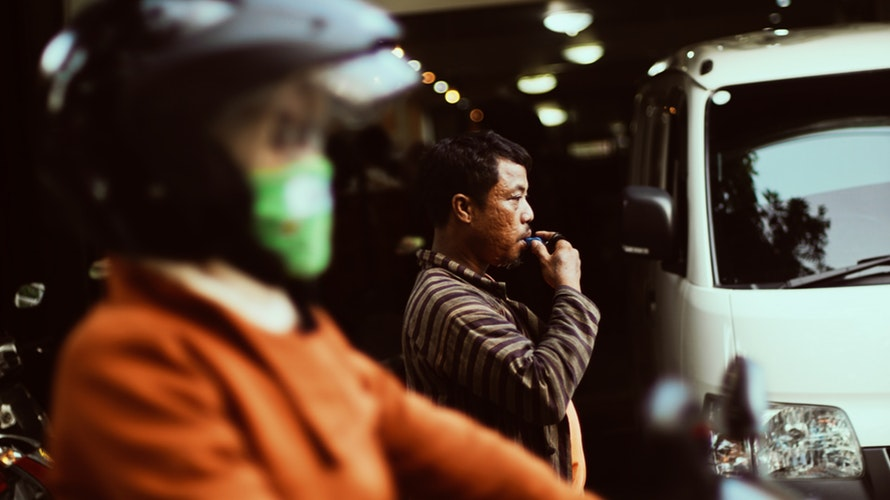helmet: (56, 9, 386, 282)
